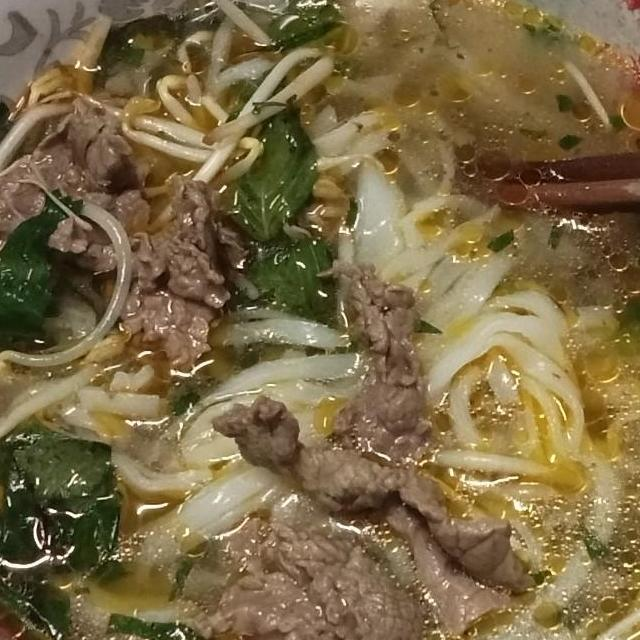banh pho: (293, 89, 541, 342), (136, 296, 368, 564), (407, 276, 603, 496), (0, 358, 216, 502)
pho bo: (0, 0, 640, 640)
thit bo: (207, 391, 545, 640), (0, 96, 260, 288), (311, 252, 447, 534), (161, 507, 432, 640), (85, 166, 235, 380)
